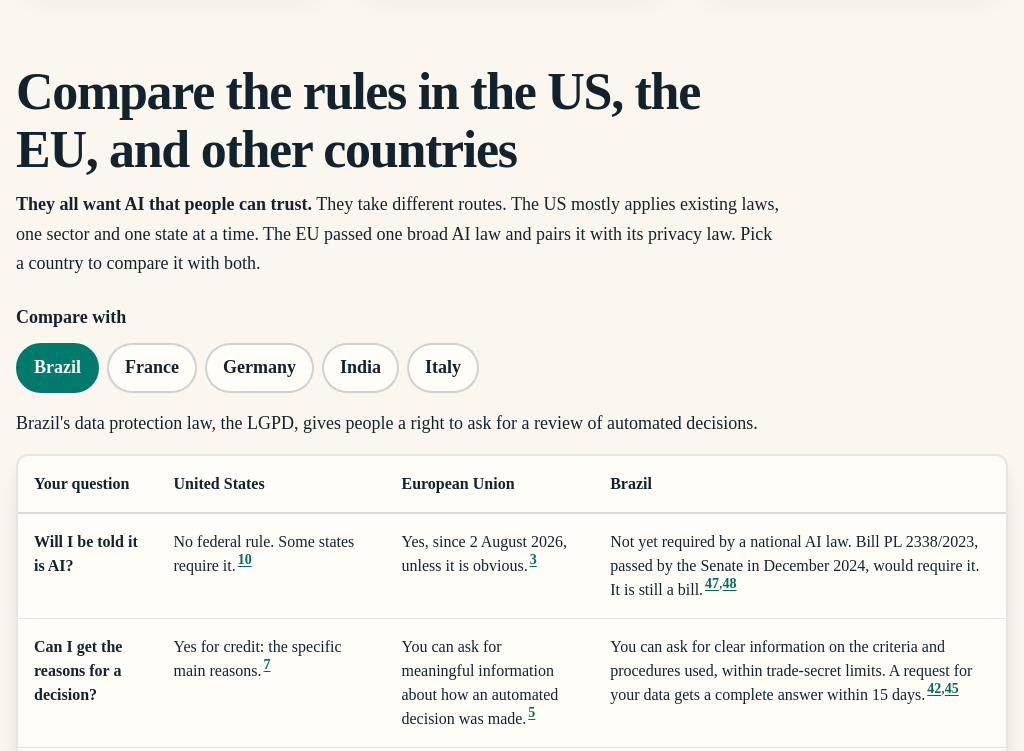
Test: Guide page › cites every Italy cell to Law 132/2025, EU law, or the Garante, and names no company
(page scrolled)
Step 1. Click the radio button labelled "Italy" → [443, 368], box [407,343,479,393]
(page scrolled)
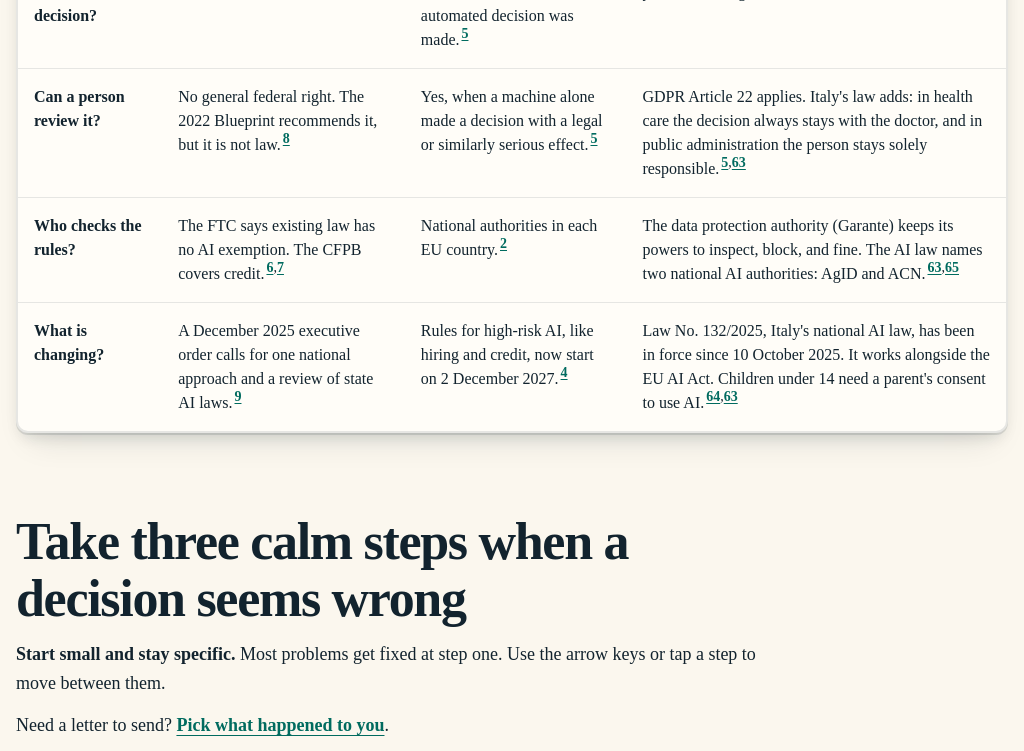
Now the text "Garante" is shown, box [642,217,982,282]
Now the text "in force since 10 October 2025" is shown, box [642,322,990,411]
